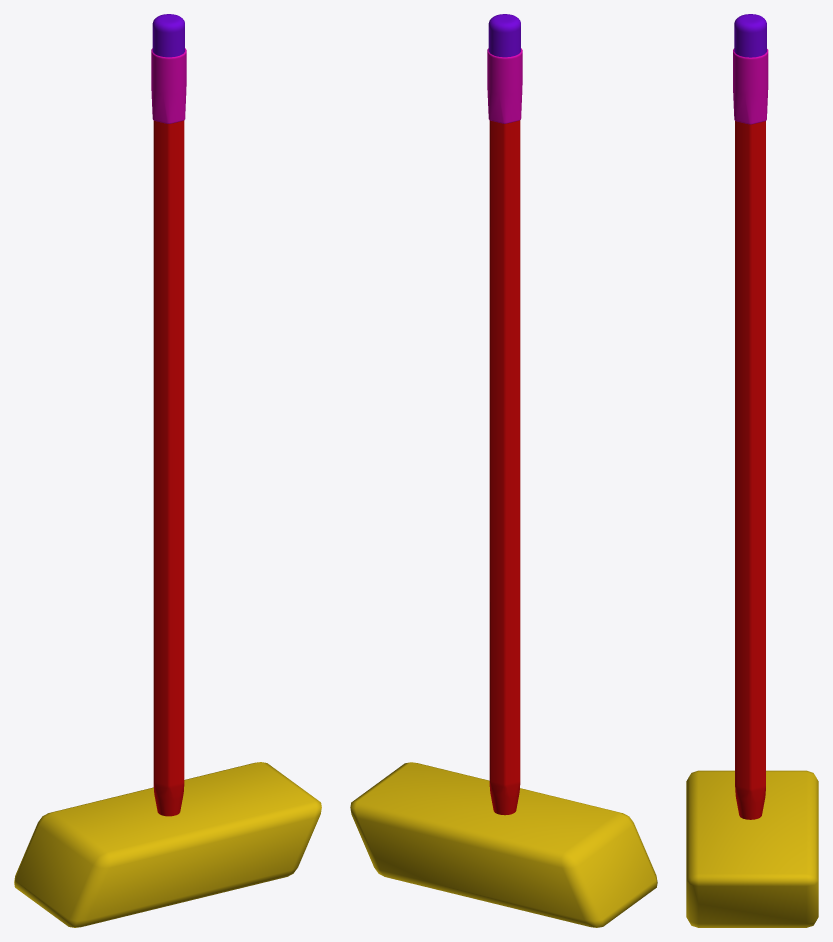
The model's file is flag_pole.fbx.
3 renders of one model, left to right at view 1: azimuth 30°, elevation 25°; view 2: azimuth 150°, elevation 25°; view 3: azimuth 270°, elevation 25°, orthographic.
Visible parts, largest first — view 1: Cube; view 2: Cube; view 3: Cube.
Part boxes in pixels (bbox=[...]): Cube: bbox=[14, 14, 321, 927]; Cube: bbox=[350, 14, 657, 927]; Cube: bbox=[686, 14, 818, 927].
Bounding box in the file's own units: 7.75 × 25.27 × 3.5.
